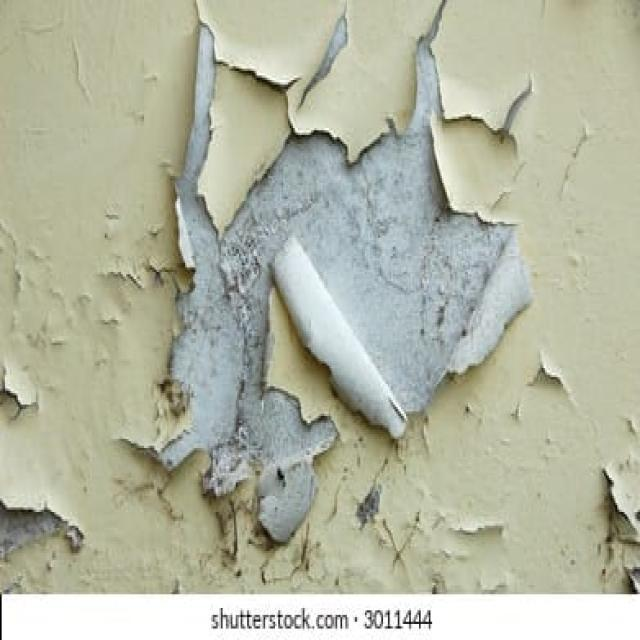Paint peeling: (138, 12, 554, 569), (11, 491, 102, 567), (597, 458, 639, 585)
